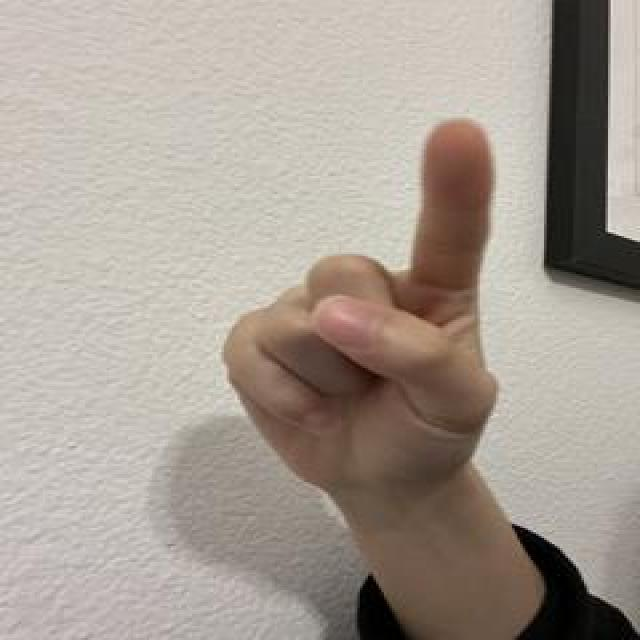Z: (216, 111, 507, 495)
